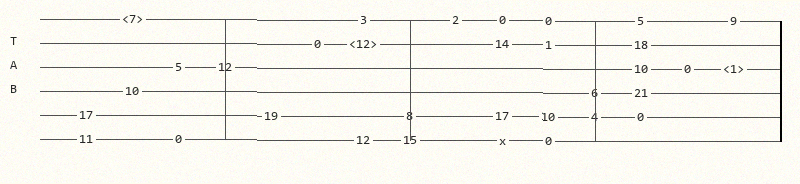0: (175, 134, 186, 146), (314, 38, 325, 50), (499, 14, 510, 26), (545, 14, 556, 26), (545, 134, 556, 146), (637, 110, 648, 122), (684, 62, 695, 74)
1: (545, 38, 556, 50)
10: (125, 86, 143, 98), (541, 110, 559, 122), (634, 62, 652, 74)
11: (79, 134, 97, 146)
12: (218, 62, 236, 74), (356, 134, 374, 146)
14: (495, 38, 513, 50)
15: (403, 134, 421, 146)
17: (79, 110, 97, 122), (495, 110, 513, 122)
18: (634, 38, 652, 50)
19: (264, 110, 282, 122)
2: (452, 14, 463, 26)
21: (634, 86, 652, 98)
3: (360, 14, 371, 26)
4: (591, 110, 602, 122)
5: (175, 62, 186, 74), (637, 14, 648, 26)
6: (591, 86, 602, 98)
8: (406, 110, 417, 122)
9: (730, 14, 741, 26)
harmonic: (349, 38, 381, 50), (122, 14, 147, 26), (723, 62, 748, 74)
x: (499, 135, 510, 145)
